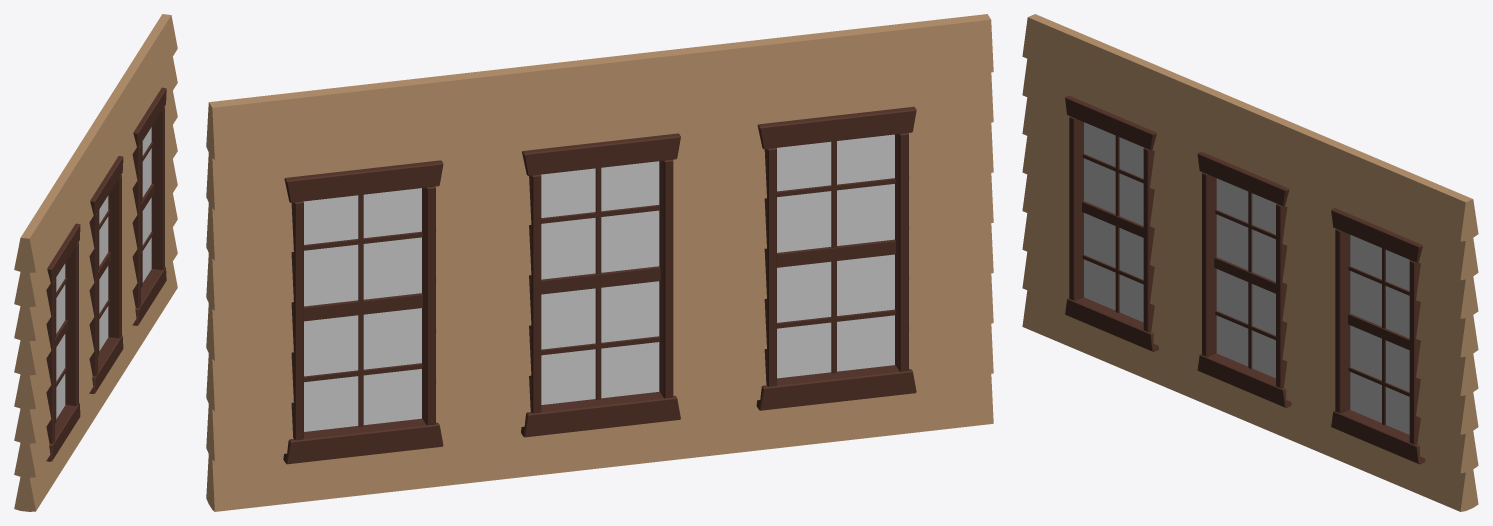
The model's file is Window B-col.glb.
3 renders of one model, left to right at view 1: azimuth 30°, elevation 25°; view 2: azimuth 150°, elevation 25°; view 3: azimuth 270°, elevation 25°, orthographic. The views are drawn at different scales.
Parts seen in each view (by area): view 1: Window B-col.001; view 2: Window B-col.001; view 3: Window B-col.001.
Part boxes in pixels (box(x1,y1,x2,y2)): Window B-col.001: box(14, 14, 177, 511); Window B-col.001: box(206, 14, 993, 511); Window B-col.001: box(1022, 14, 1478, 511).
Bounding box in the file's own units: 2.95 × 2.2 × 2.95.
